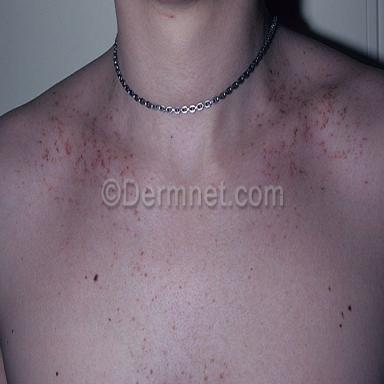Darier_s-Disease: (246, 65, 369, 184), (37, 94, 135, 189)
